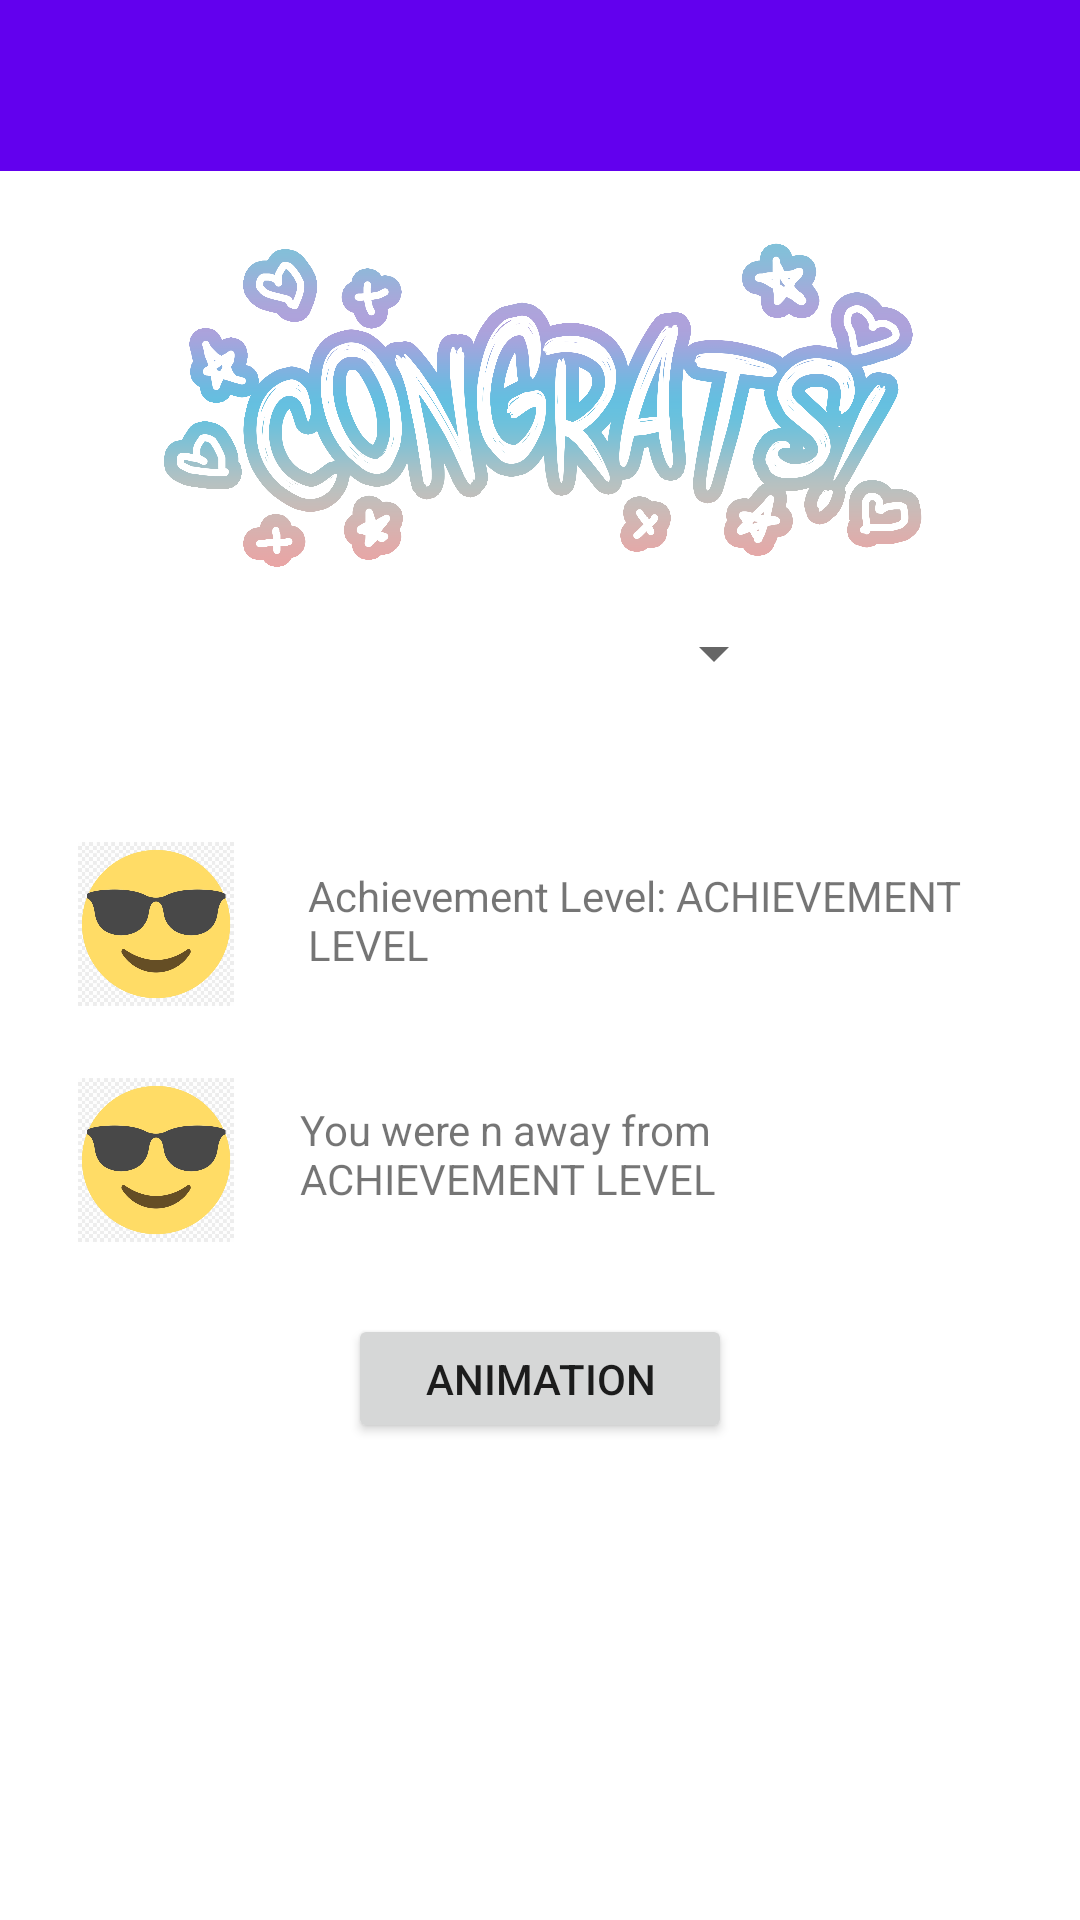

Icon bounding boxes for this 1080w x 1920h phone screenshot, format bbox=(x1, y1, x2, y2):
cool: bbox=(82, 850, 231, 999), bbox=(82, 1086, 231, 1235)
